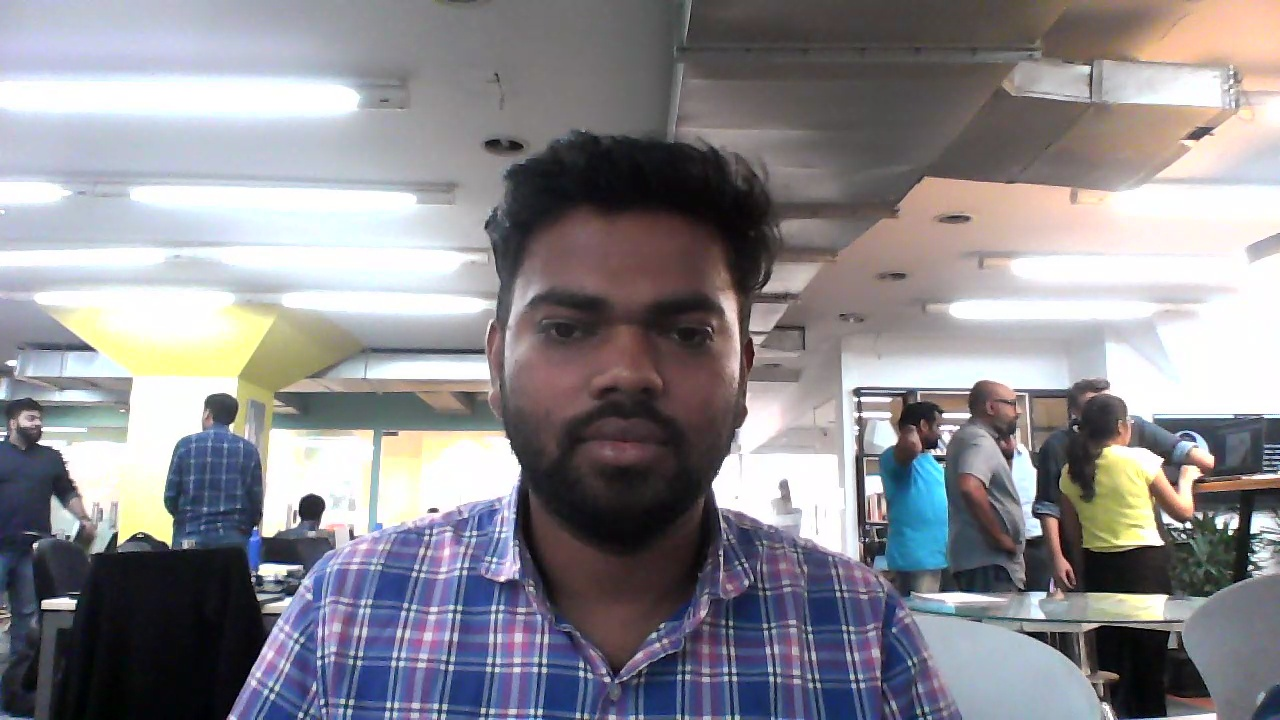open: (491, 148, 754, 534)
